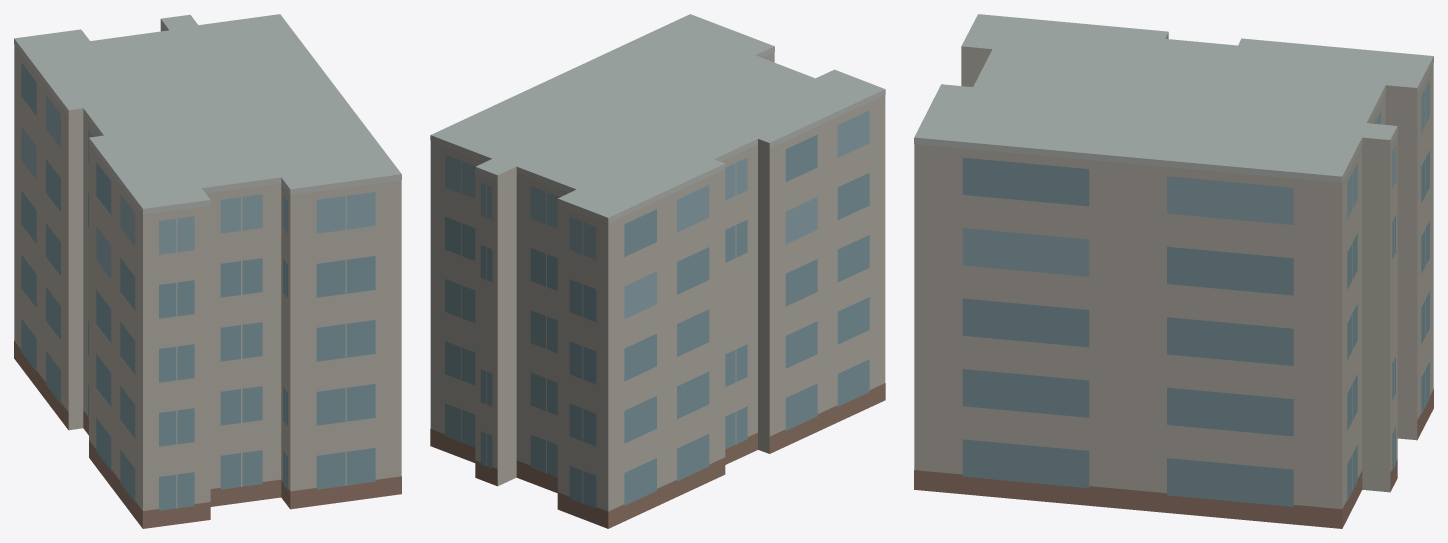
The model's file is survey-upis-32995126.glb.
The picture shows the model from 3 angles, left to right: view 1: azimuth 30°, elevation 25°; view 2: azimuth 150°, elevation 25°; view 3: azimuth 270°, elevation 25°; orthographic projection. The views are drawn at different scales.
Visible parts, largest first — view 1: survey-upis-32995126.tmp; view 2: survey-upis-32995126.tmp; view 3: survey-upis-32995126.tmp.
Part boxes in pixels (x1=…): survey-upis-32995126.tmp: x1=14, y1=14, x2=401, y2=528; survey-upis-32995126.tmp: x1=430, y1=14, x2=885, y2=528; survey-upis-32995126.tmp: x1=914, y1=14, x2=1433, y2=528.
Bounding box in the file's own units: 13.33 × 13.45 × 17.99.
